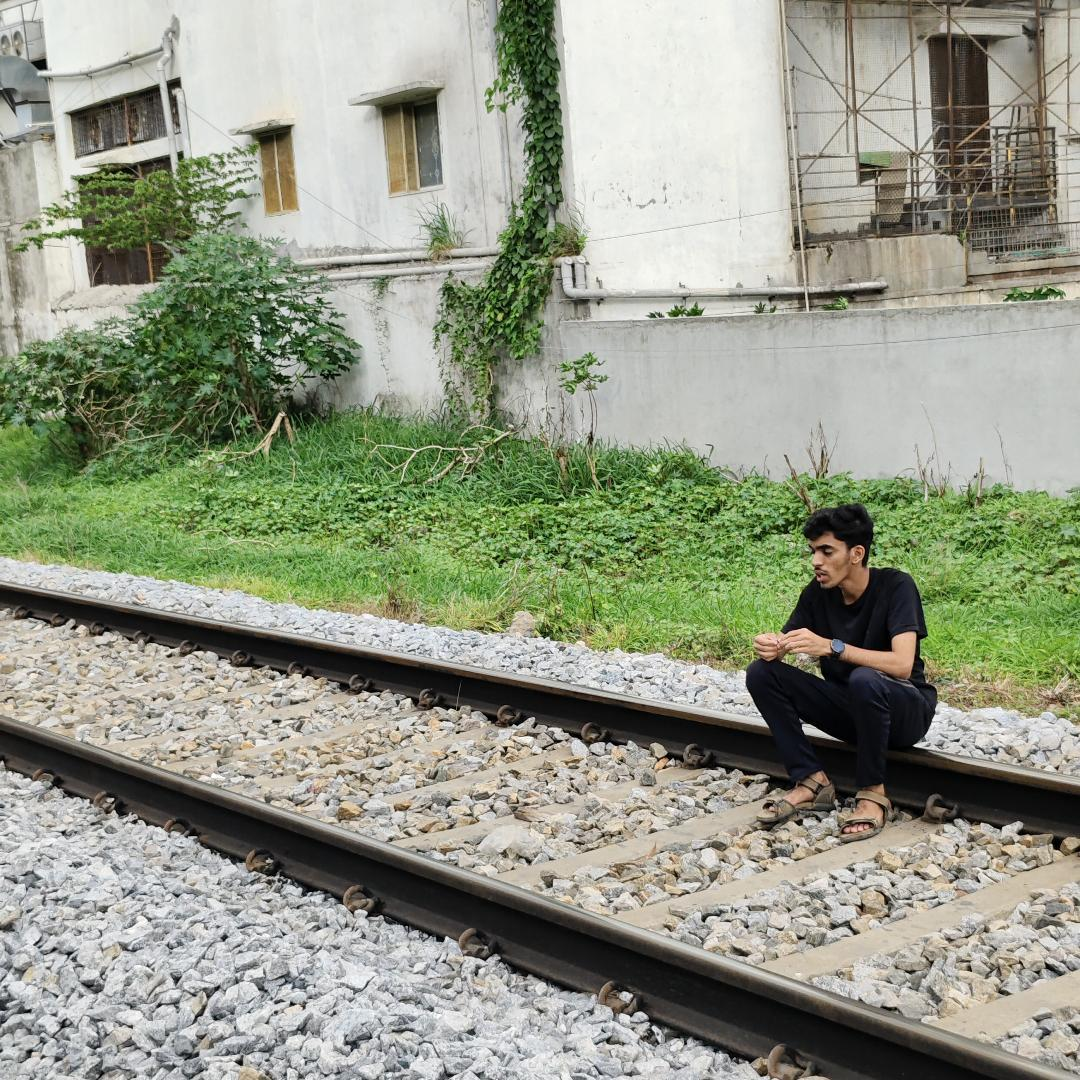sitting: (763, 501, 937, 843)
